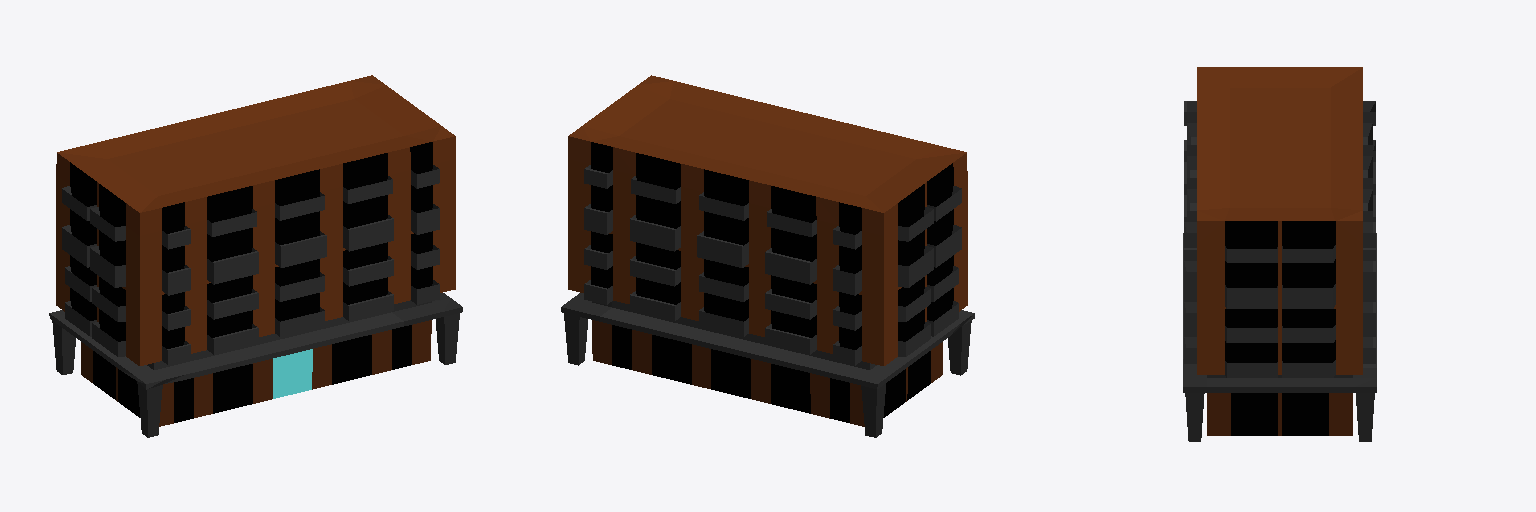
Rendered from appartmentBuildings.obj.
3 views of the same model, side by side, from view 1: azimuth 30°, elevation 25°; view 2: azimuth 150°, elevation 25°; view 3: azimuth 270°, elevation 25° (orthographic).
Visible parts, largest first — view 1: pCube5; view 2: pCube5; view 3: pCube5.
Boxes of the visible parts, box(x1,y1,x2,y2) form: pCube5: box(49, 75, 462, 437); pCube5: box(561, 75, 974, 437); pCube5: box(1183, 67, 1376, 441).
Bounding box in the file's own units: 2976 × 1899 × 1497.